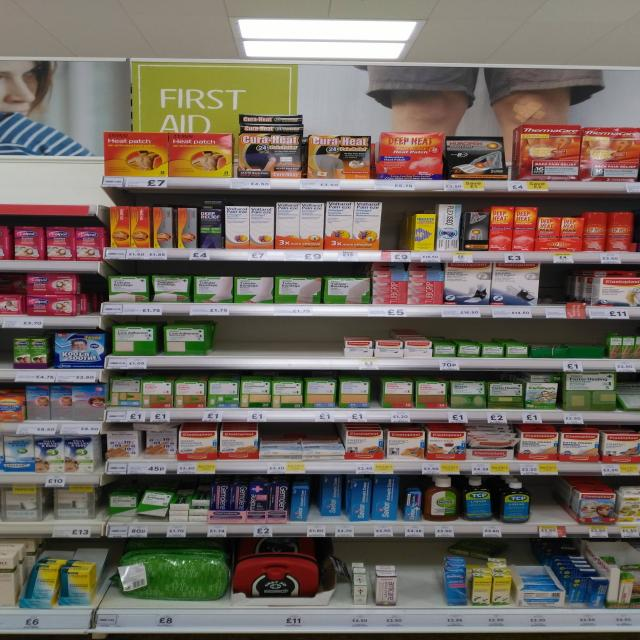void: (216, 319, 340, 357), (402, 542, 440, 607), (542, 264, 596, 304), (535, 478, 574, 526)
